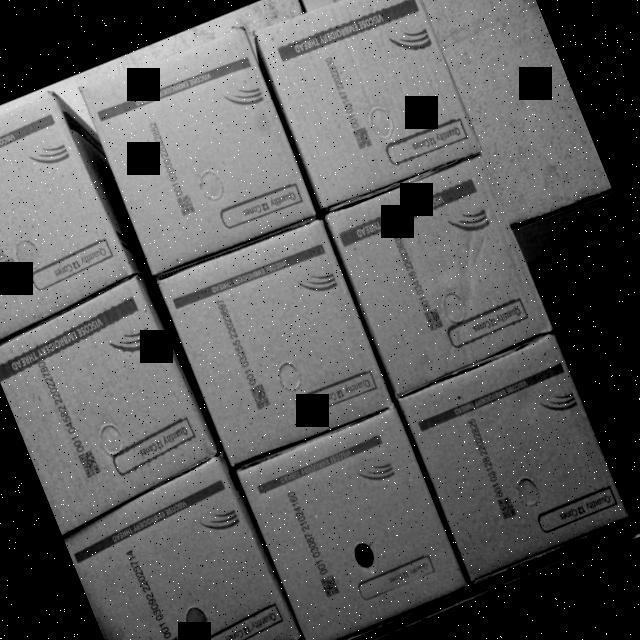box: (76, 19, 318, 278), (158, 216, 394, 466), (397, 336, 632, 584), (235, 403, 465, 640), (326, 157, 552, 394), (0, 278, 216, 520), (255, 0, 481, 210), (60, 463, 303, 640), (0, 91, 133, 340)
